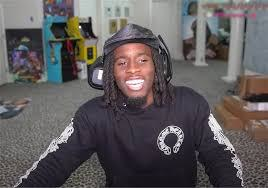kai-cenat: (111, 43, 161, 103)
